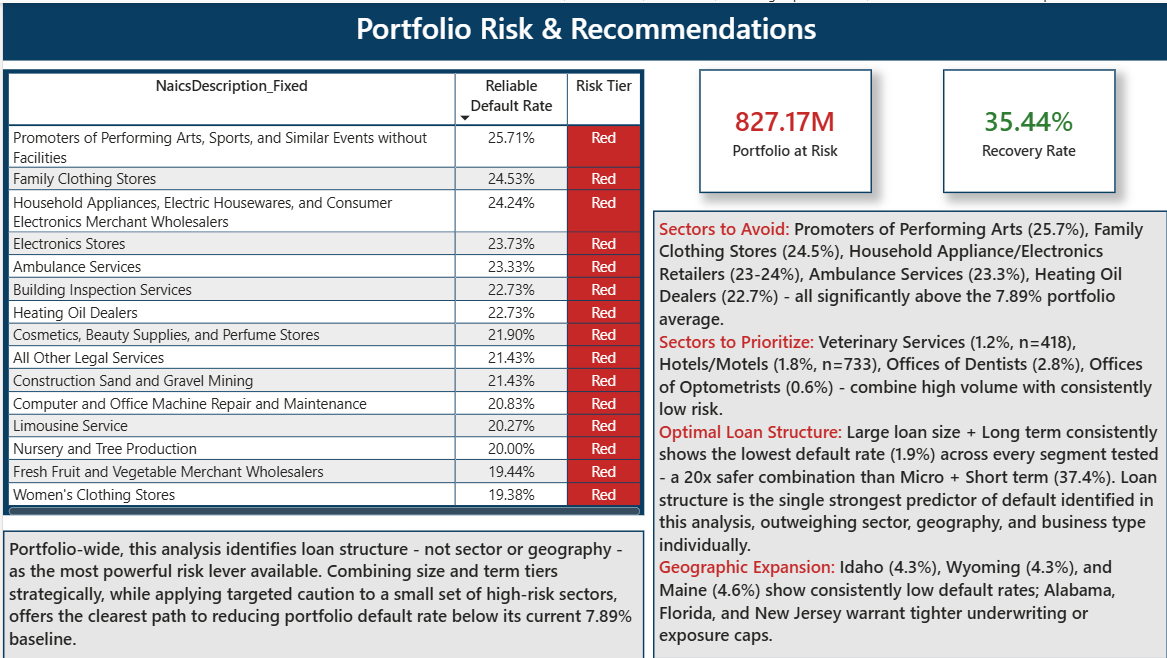

What the dashboard file says about the page in this screenshot:
{"tool":"powerbi","page":{"name":"Portfolio Risk & Recommendations","canvas":[1280,720],"ordinal":3},"visuals":[{"type":"textbox","box":[0,0,1280.3,63.1],"z":0},{"type":"cardVisual","fields":{"Data":["sba_loans.Portfolio at Risk"]},"box":[764.3,72.7,189.5,136.4],"z":2},{"type":"cardVisual","fields":{"Data":["sba_loans.Recovery Rate"]},"box":[1031.9,72.7,189.5,136.4],"z":3},{"type":"tableEx","fields":{"Values":["sba_loans.NaicsDescription_Fixed","sba_loans.Reliable Default Rate","sba_loans.Risk Tier"]},"box":[0,72.7,703.9,489.9],"z":4},{"type":"textbox","box":[713.6,227.8,566.7,492.6],"z":5},{"type":"textbox","box":[0,579.1,703.9,141.3],"z":6}]}

Visuals, with their boxes in screenshot pixels (x1, y1, x2, y2), scaled from the page's 1280x720 canvas onto the 1167x658 screenshot:
textbox: [0, 0, 1166, 58]
cardVisual - sba_loans.Portfolio at Risk: [697, 66, 870, 191]
cardVisual - sba_loans.Recovery Rate: [941, 66, 1114, 191]
tableEx - sba_loans.NaicsDescription_Fixed x sba_loans.Reliable Default Rate: [0, 66, 642, 514]
textbox: [651, 208, 1166, 657]
textbox: [0, 529, 642, 657]
